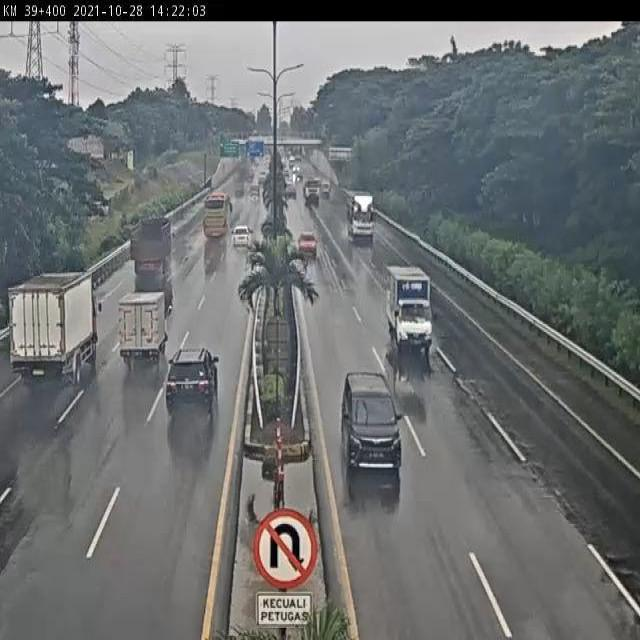big bus: (200, 191, 233, 240)
car: (342, 369, 403, 479), (164, 352, 221, 417), (230, 223, 254, 249), (298, 228, 318, 256)
truck-l-: (8, 268, 101, 387), (129, 216, 173, 280), (342, 188, 378, 247)
truck-s-: (384, 262, 436, 358), (115, 291, 171, 365)
